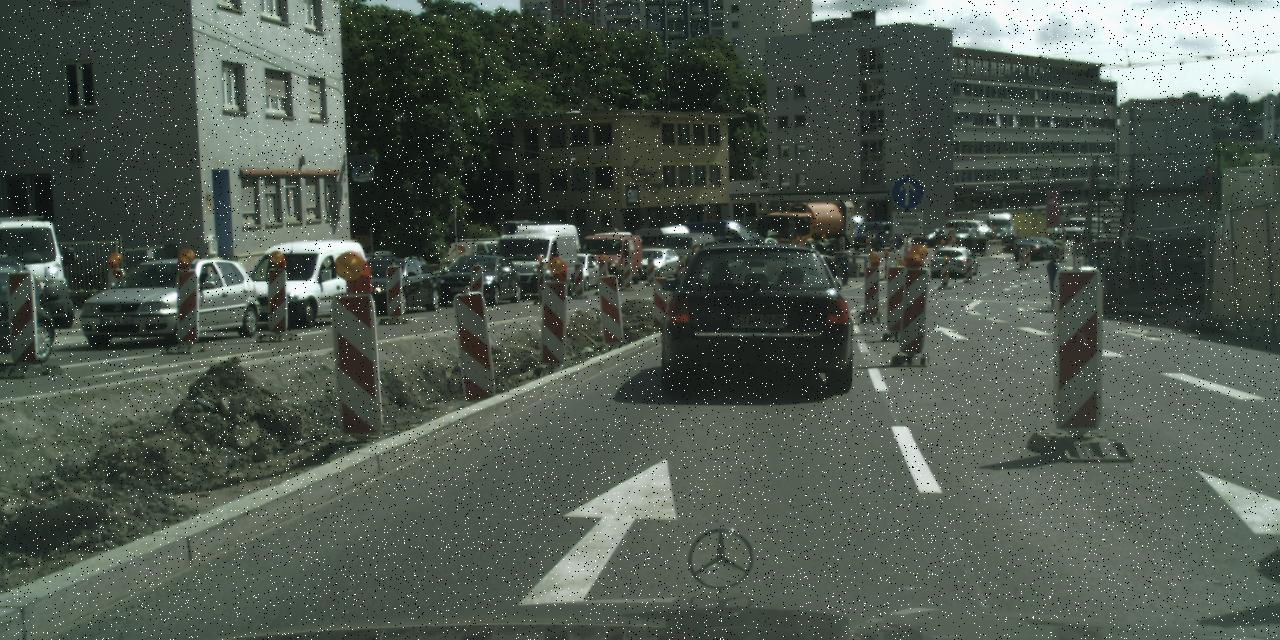ped: (1043, 254, 1065, 308), (838, 249, 852, 284)
